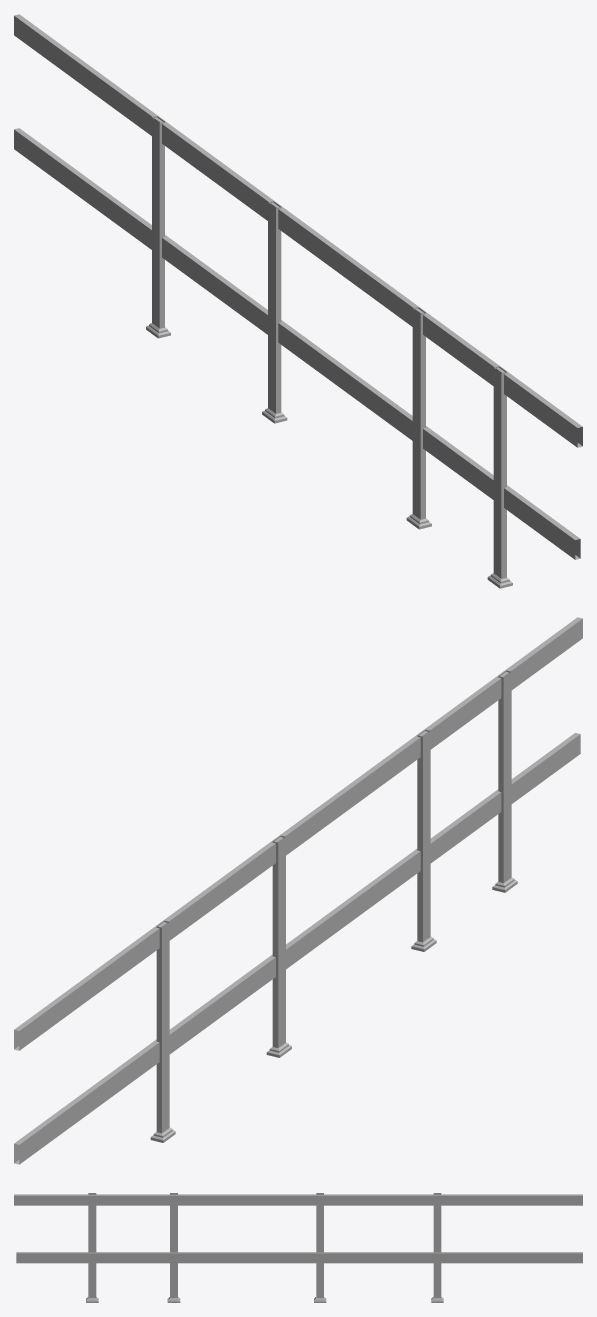
Rendered from dersk_window_leg.fbx.
3 renders of one model, top to bottom at view 1: azimuth 30°, elevation 25°; view 2: azimuth 150°, elevation 25°; view 3: azimuth 270°, elevation 25°, orthographic. The views are drawn at different scales.
Parts seen in each view (by area): view 1: dersk_window_leg; view 2: dersk_window_leg; view 3: dersk_window_leg.
Boxes of the visible parts, bbox=[...] form: dersk_window_leg: bbox=[14, 14, 582, 588]; dersk_window_leg: bbox=[14, 617, 582, 1164]; dersk_window_leg: bbox=[14, 1193, 582, 1302].
Size of the model in its own units: 4.76 by 75.28 by 361.
